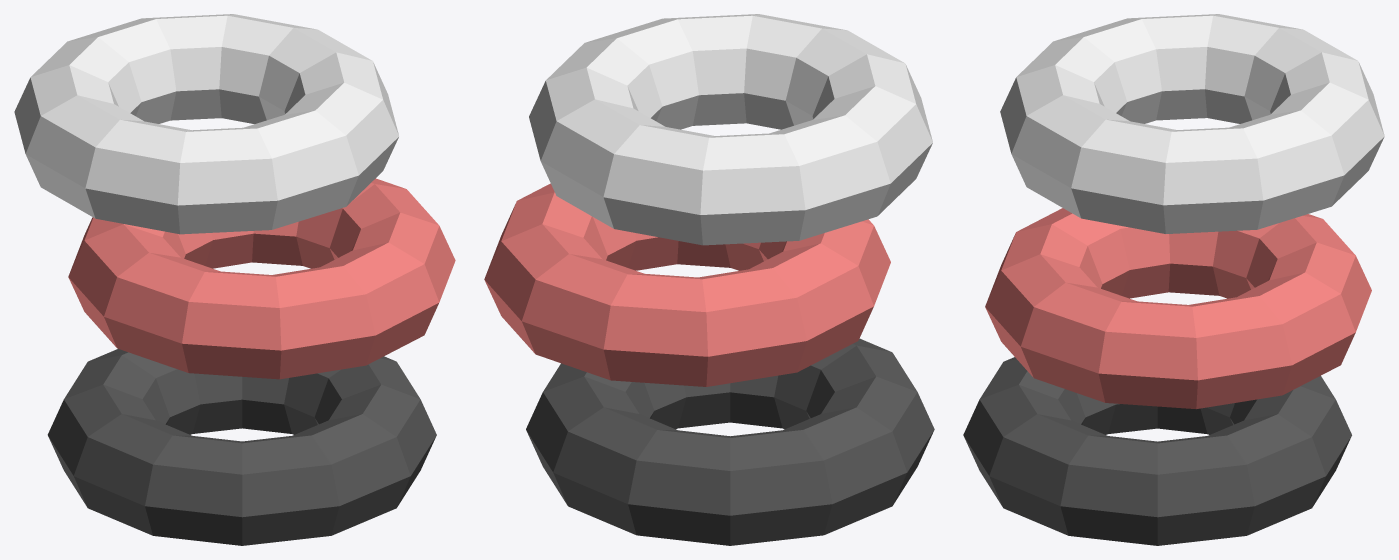
The model's file is tire_stack.glb.
3 renders of one model, left to right at view 1: azimuth 30°, elevation 25°; view 2: azimuth 150°, elevation 25°; view 3: azimuth 270°, elevation 25°, orthographic. The views are drawn at different scales.
Visible parts, largest first — view 1: tire_stack; view 2: tire_stack; view 3: tire_stack.
Boxes of the visible parts, <box> form: tire_stack: <box>14,14,455,545</box>; tire_stack: <box>484,14,934,545</box>; tire_stack: <box>963,14,1384,545</box>.
Bounding box in the file's own units: 0.6355 × 0.64 × 0.6069.
